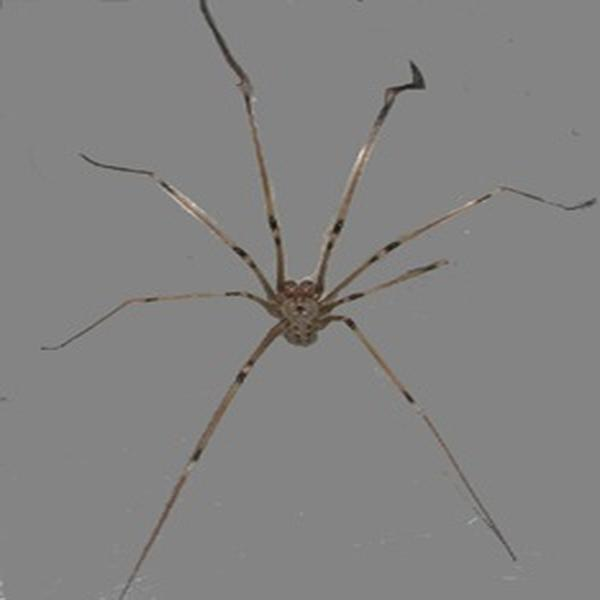Daddy Long Legs Spider: (63, 18, 549, 571)
